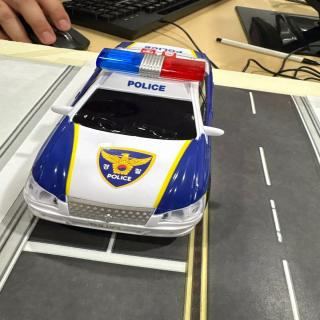Police_car: (24, 42, 224, 236)
